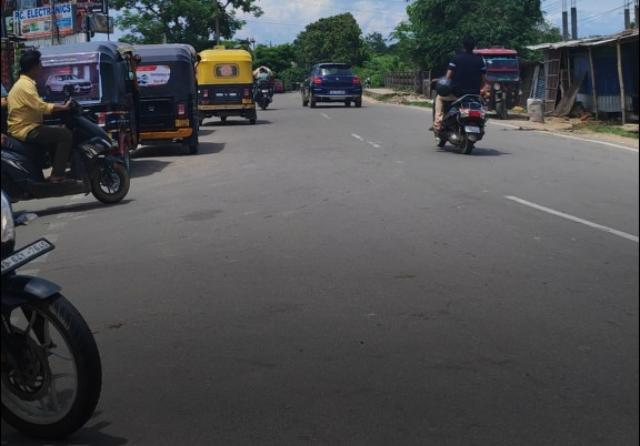licensePlate: (464, 125, 484, 136)
motorcycle: (0, 45, 135, 214), (436, 28, 489, 158)
withoutHelmet: (19, 49, 45, 76), (459, 33, 478, 54)
